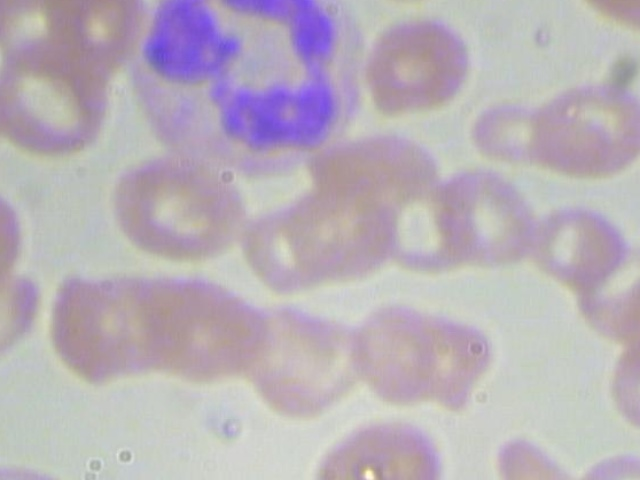WBC: (129, 0, 365, 180)
